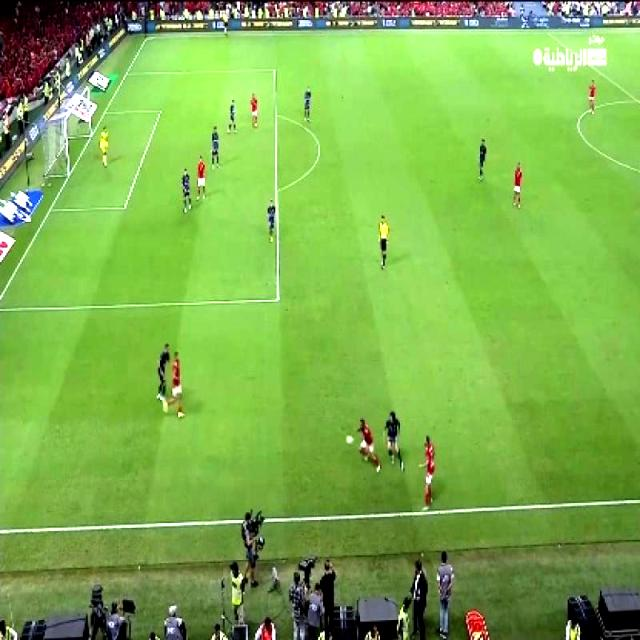bigarea_bottom_inner: (270, 289, 282, 306)
bigarea_top_inner: (271, 63, 277, 74)
bigarea_top_outter: (120, 66, 135, 80)
bottom_arc_area_intersection: (274, 185, 280, 198)
corner: (142, 35, 156, 43)
halfcircle_top: (634, 98, 640, 106)
midline_top_intersection: (538, 27, 558, 39)
smallarea_bottom_inner: (118, 198, 128, 212)
smallarea_bottom_outter: (46, 202, 54, 212)
smallarea_top_inner: (155, 106, 163, 117)
smallarea_top_outter: (98, 105, 112, 122)
top_arc_area_intersection: (272, 108, 280, 119)
